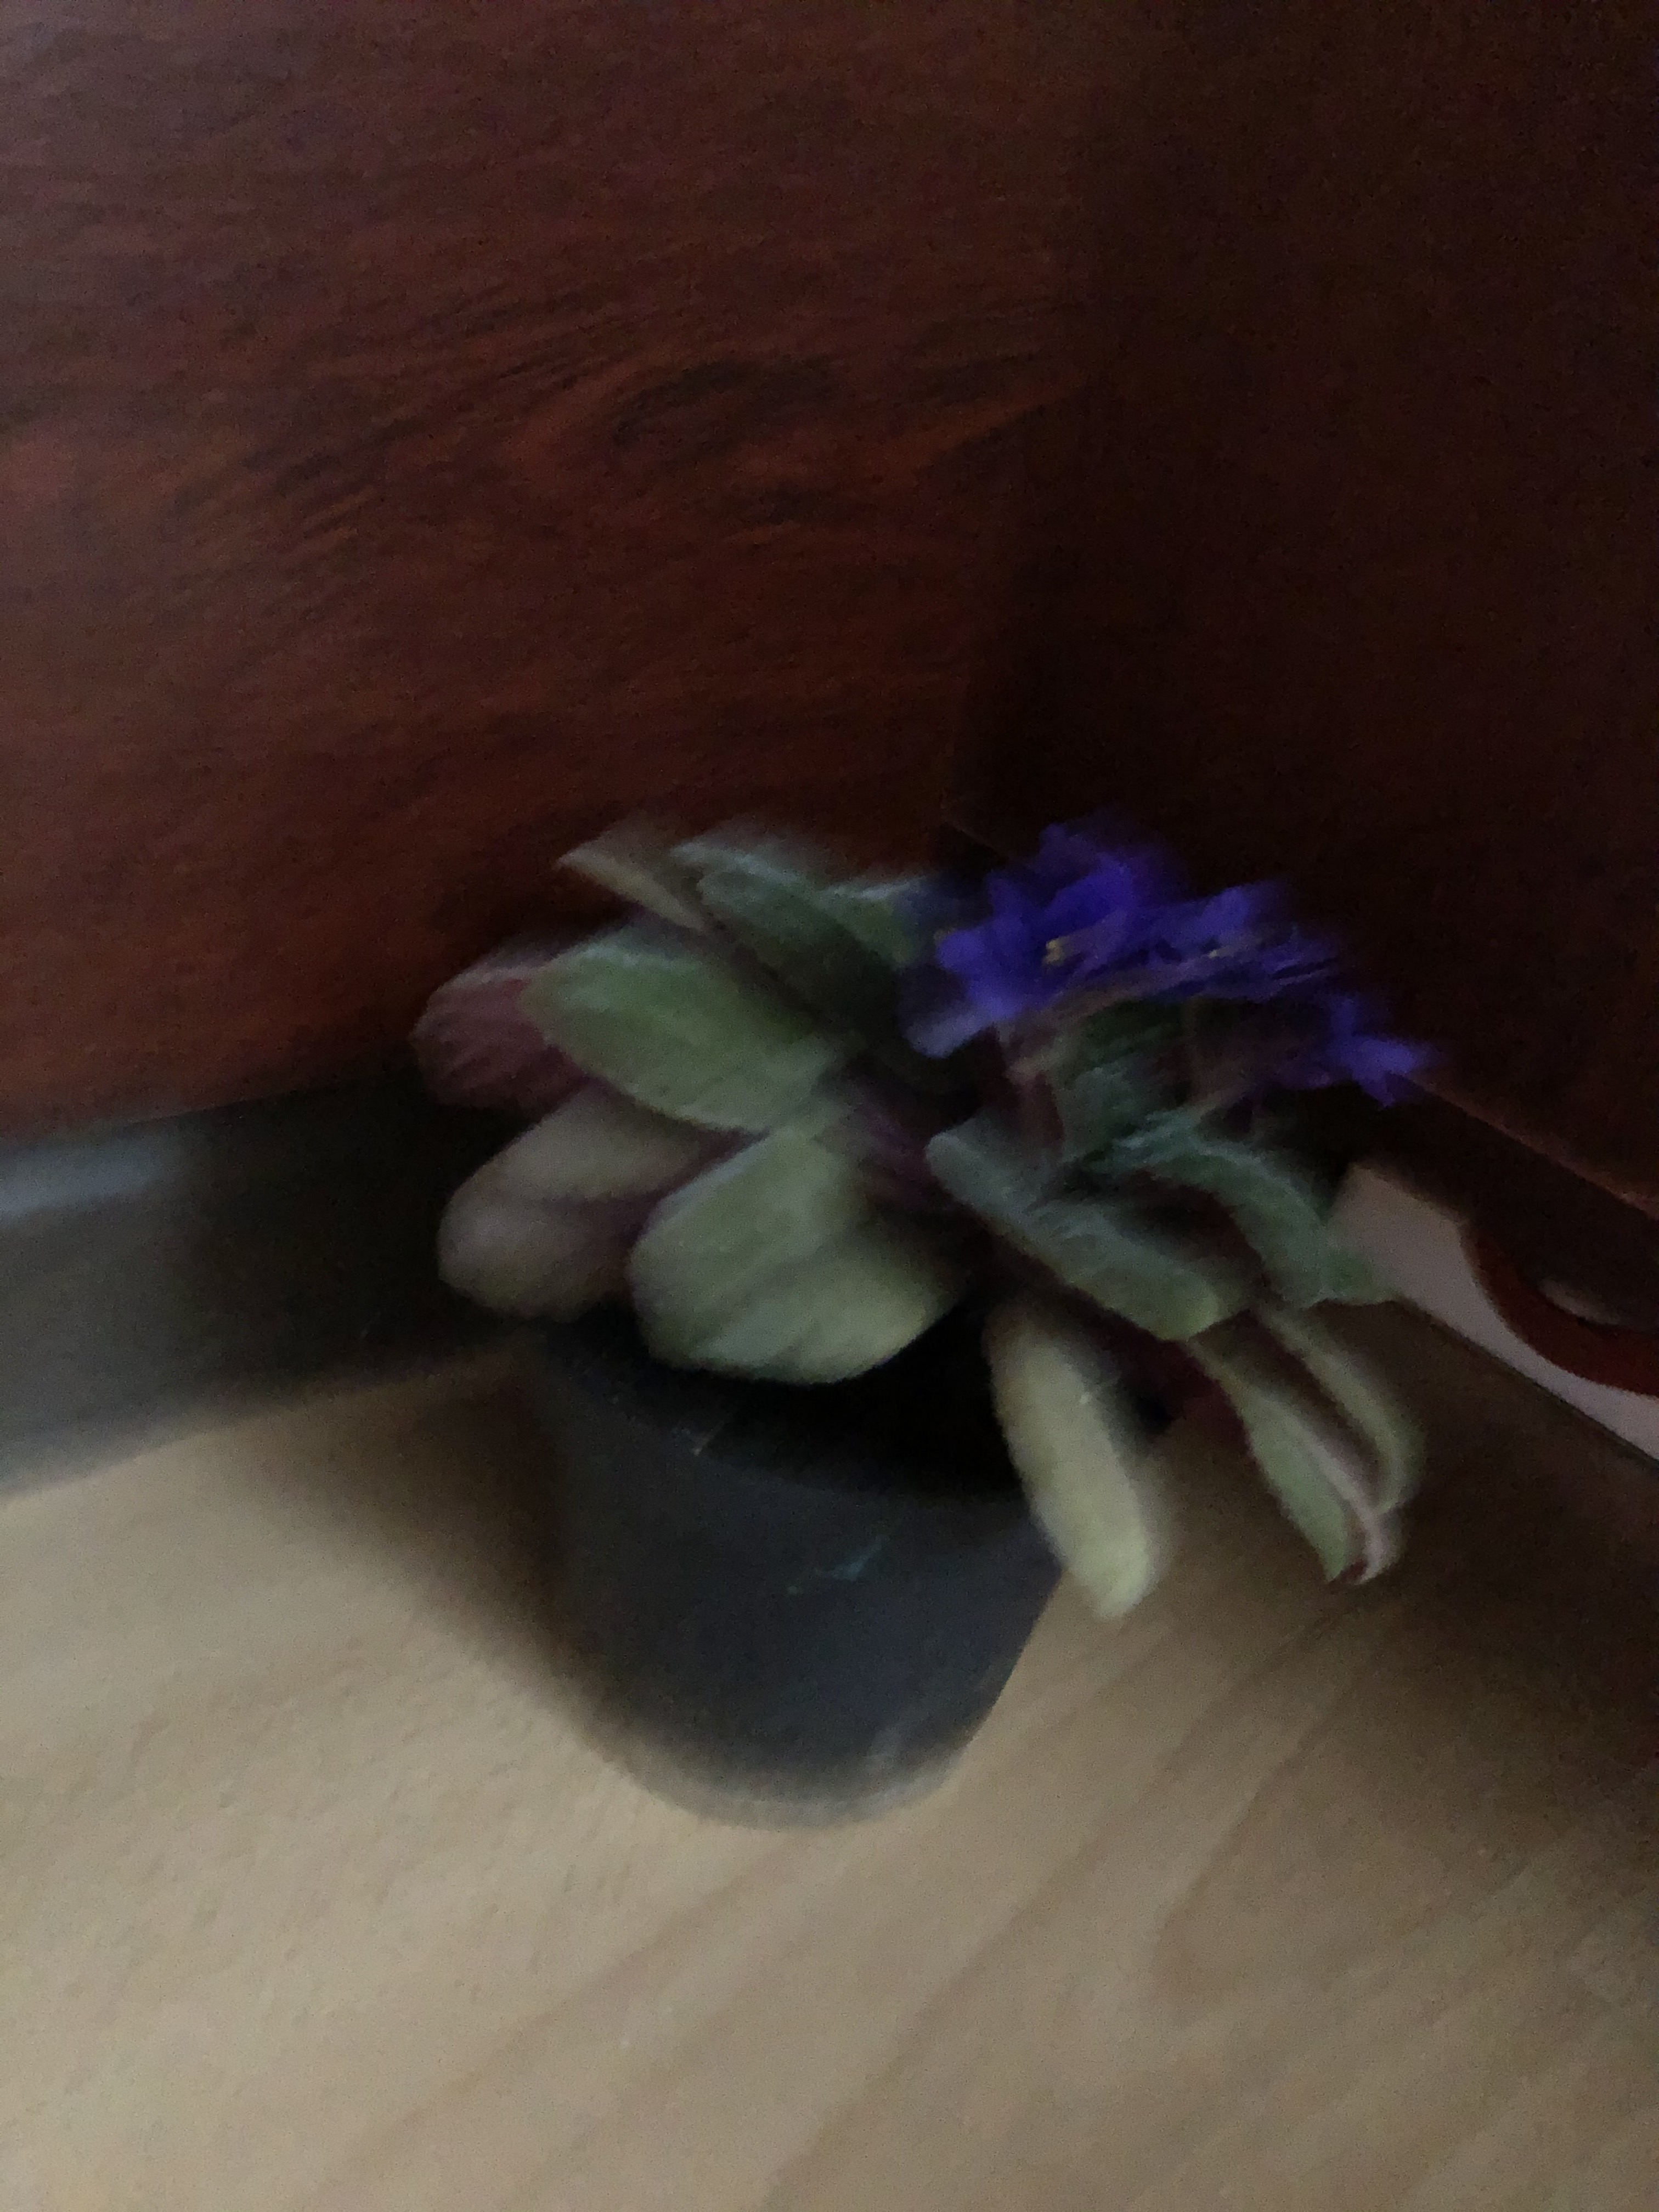ignore: (464, 791, 1438, 1599)
